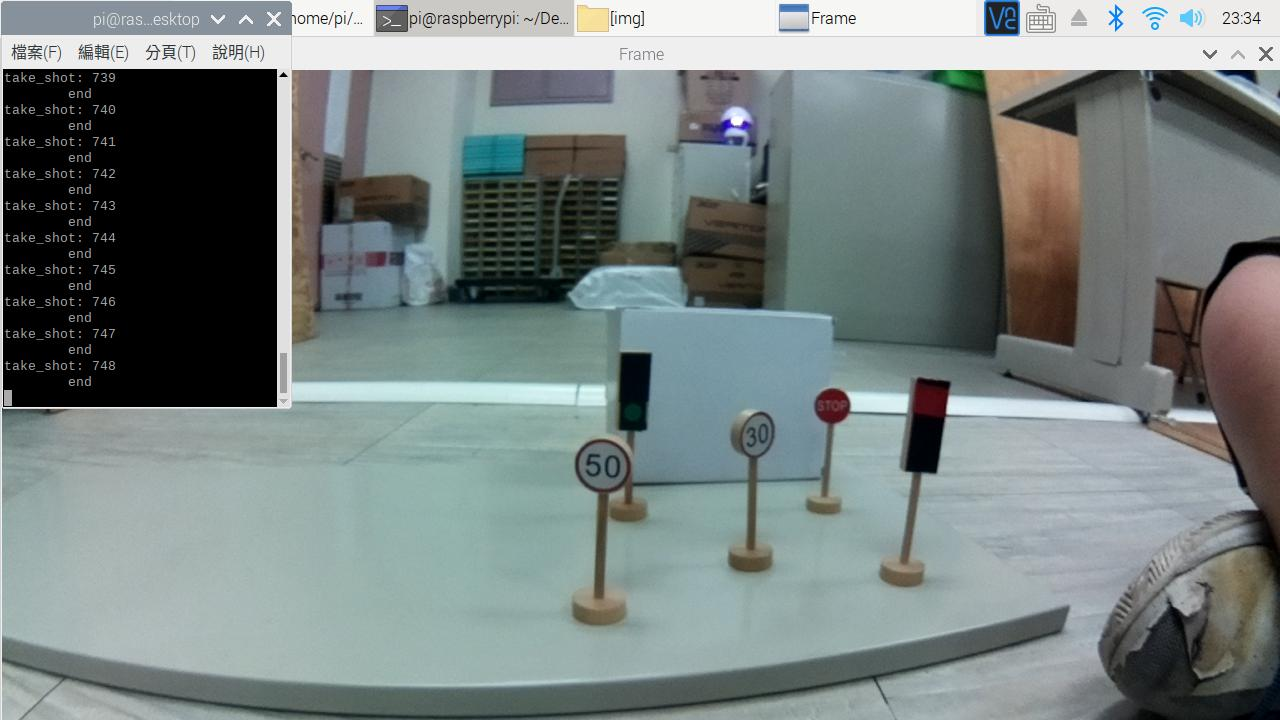Green: (611, 347, 659, 439)
Red: (904, 374, 952, 485)
Speed30: (734, 407, 779, 464)
Speed50: (565, 436, 640, 508)
Stop: (807, 385, 861, 431)
